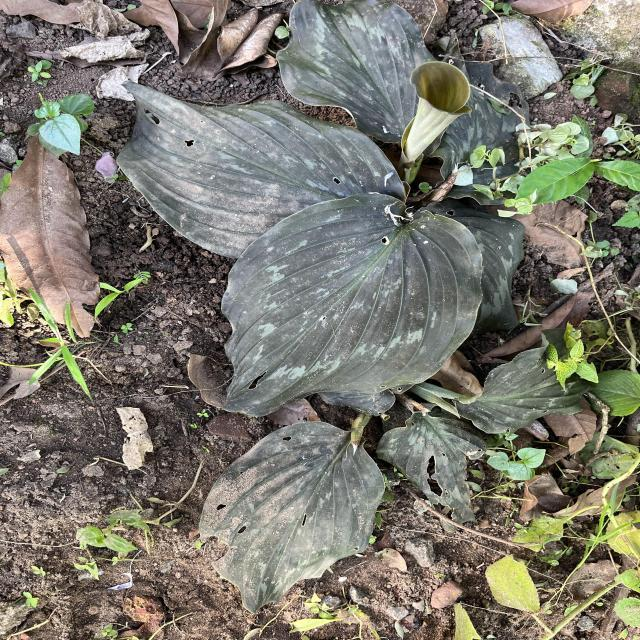Kaempferia galanga linn: (218, 191, 486, 420), (112, 76, 410, 262), (196, 420, 388, 618), (274, 0, 443, 146)
